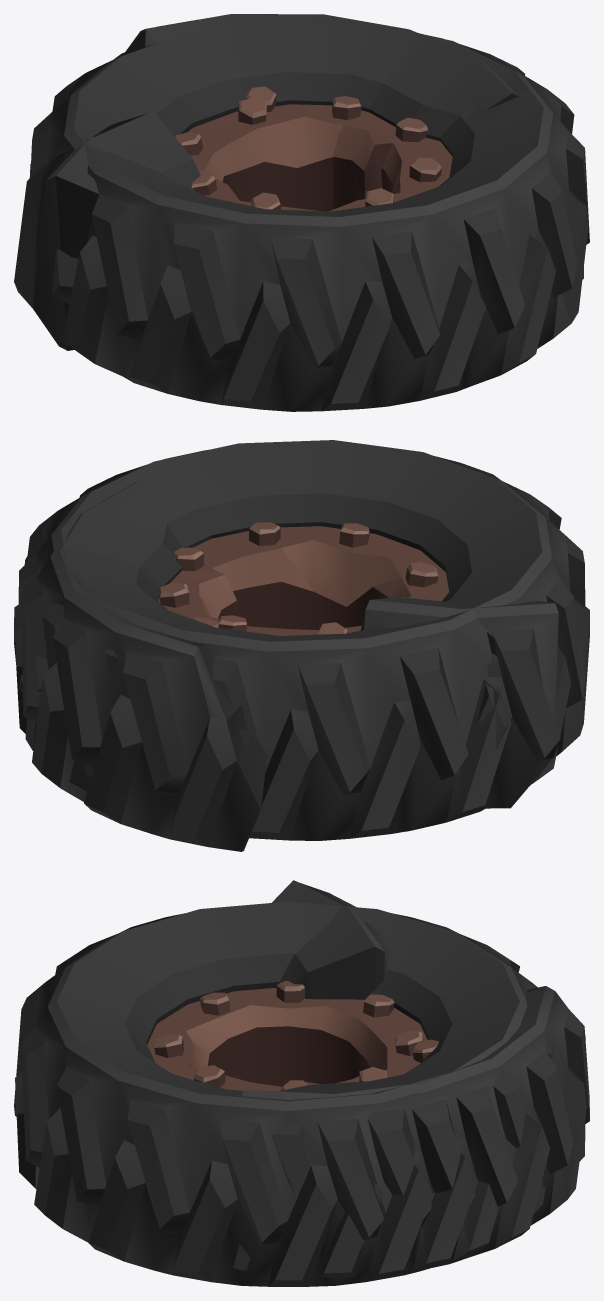
The model's file is Tyre1-3.fbx.
3 renders of one model, top to bottom at view 1: azimuth 30°, elevation 25°; view 2: azimuth 150°, elevation 25°; view 3: azimuth 270°, elevation 25°, orthographic. The views are drawn at different scales.
Parts seen in each view (by area): view 1: Tyre1.1, Tyre1.3, Tyre1.2; view 2: Tyre1.1, Tyre1.3, Tyre1.2; view 3: Tyre1.1, Tyre1.3, Tyre1.2.
Boxes of the visible parts, x1,y1,x2,y2 form: Tyre1.1: (29,20,589,411); Tyre1.3: (14,14,518,350); Tyre1.2: (347,23,543,156); Tyre1.1: (14,440,589,840); Tyre1.3: (15,481,560,851); Tyre1.2: (61,464,408,831); Tyre1.1: (14,901,554,1286); Tyre1.3: (168,880,589,1278); Tyre1.2: (197,1072,450,1118).
Bounding box in the file's own units: 96.85 × 34.77 × 95.65.
